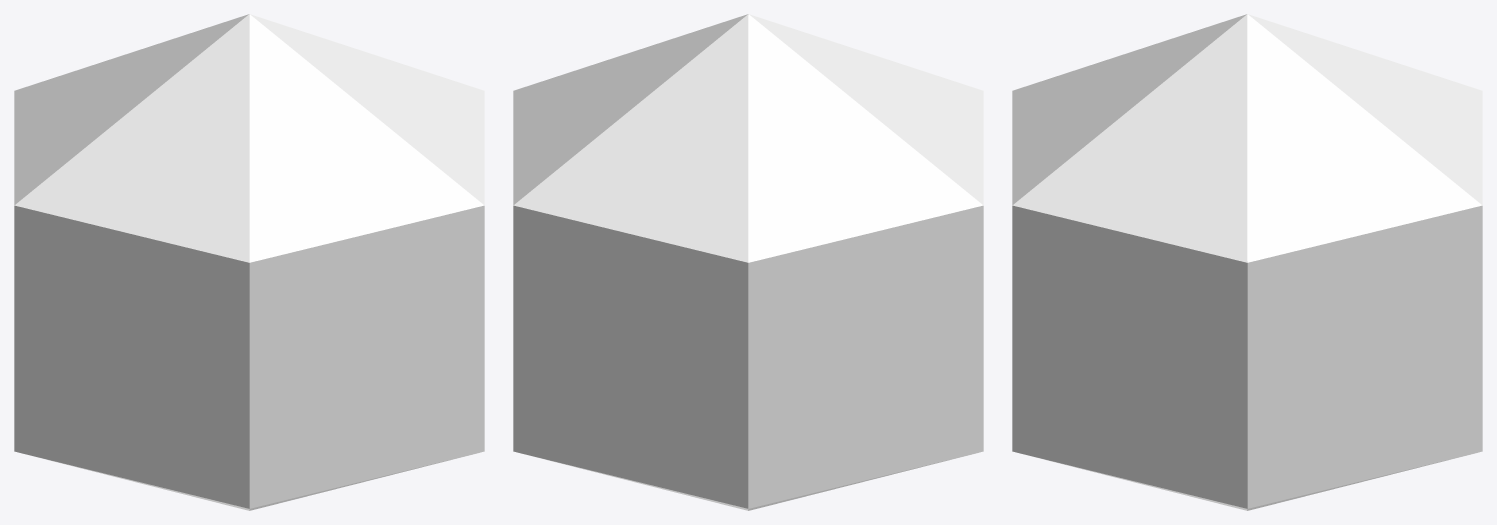
File: shield.obj
3 renders of one model, left to right at view 1: azimuth 30°, elevation 25°; view 2: azimuth 150°, elevation 25°; view 3: azimuth 270°, elevation 25°, orthographic.
Parts seen in each view (by area): view 1: RedLights; view 2: RedLights; view 3: RedLights.
Part boxes in pixels (<box>): RedLights: <box>14,14,484,510</box>; RedLights: <box>513,14,983,510</box>; RedLights: <box>1012,14,1482,510</box>.
Size of the model in its own units: 12.5 by 12.63 by 10.83.
